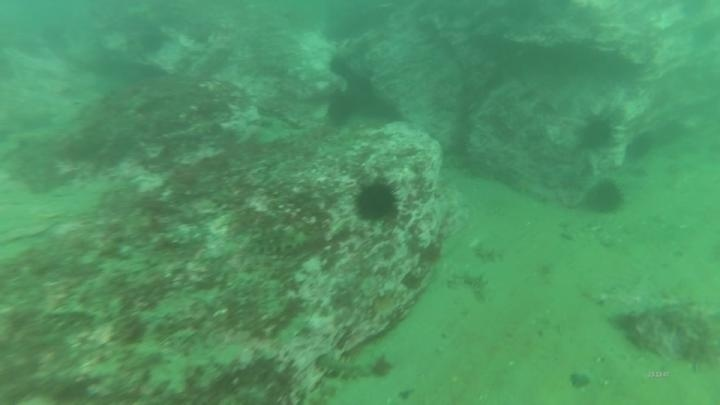echinus: (352, 177, 401, 225), (575, 112, 618, 153), (582, 177, 626, 217), (324, 89, 359, 128), (624, 130, 657, 164), (326, 52, 356, 81)
holothurian: (312, 348, 393, 384), (248, 222, 320, 258)
